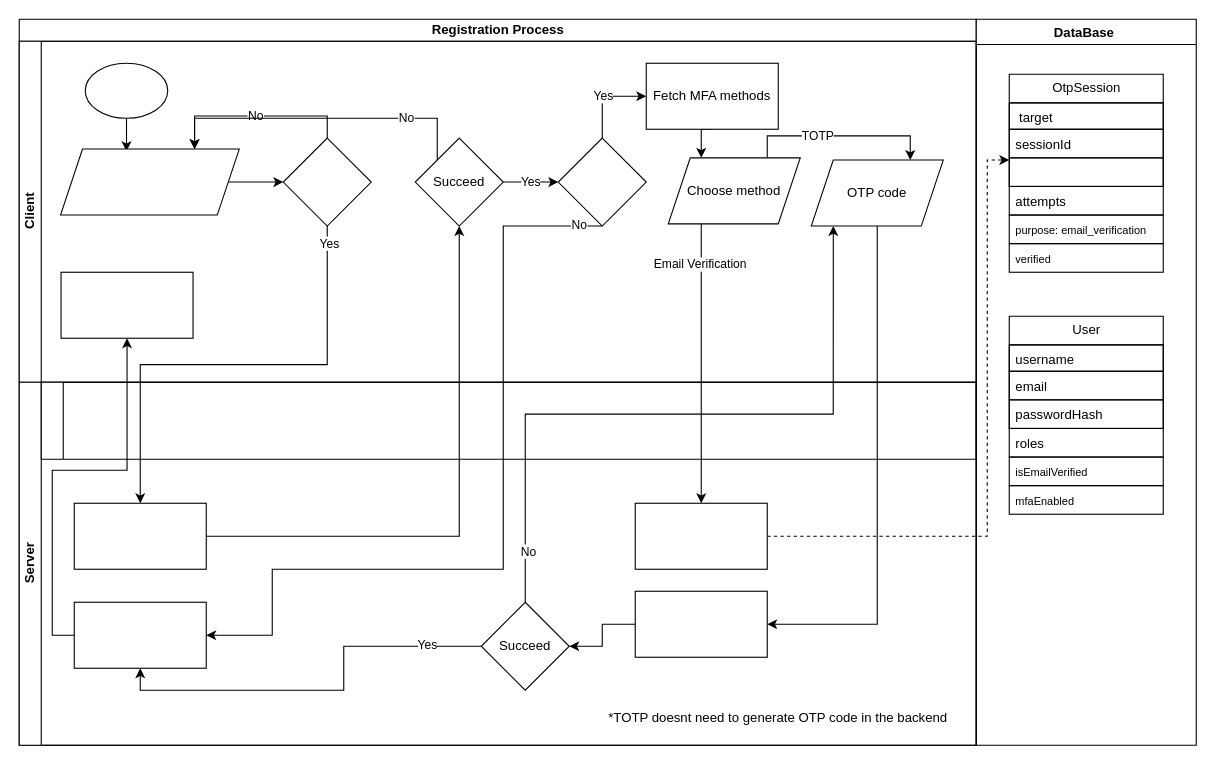
The diagram is 1216 pixels wide and 765 high, and some of its shapes have lost their labels. The centre of each missing label's shape, as x and y in pixels:
Check User authentication: the point at 139,535
email, password: the point at 149,181
Generate OTP & send email: the point at 700,535
Generate+ return Access & Refresh tokens: the point at 139,634
Login: the point at 126,304
MFA enabled: the point at 601,181
Middleware: the point at 508,420
otpHash: the point at 1085,171
reCAPTCHA: the point at 326,181
Start: the point at 126,90
Verify OTP: the point at 700,623
